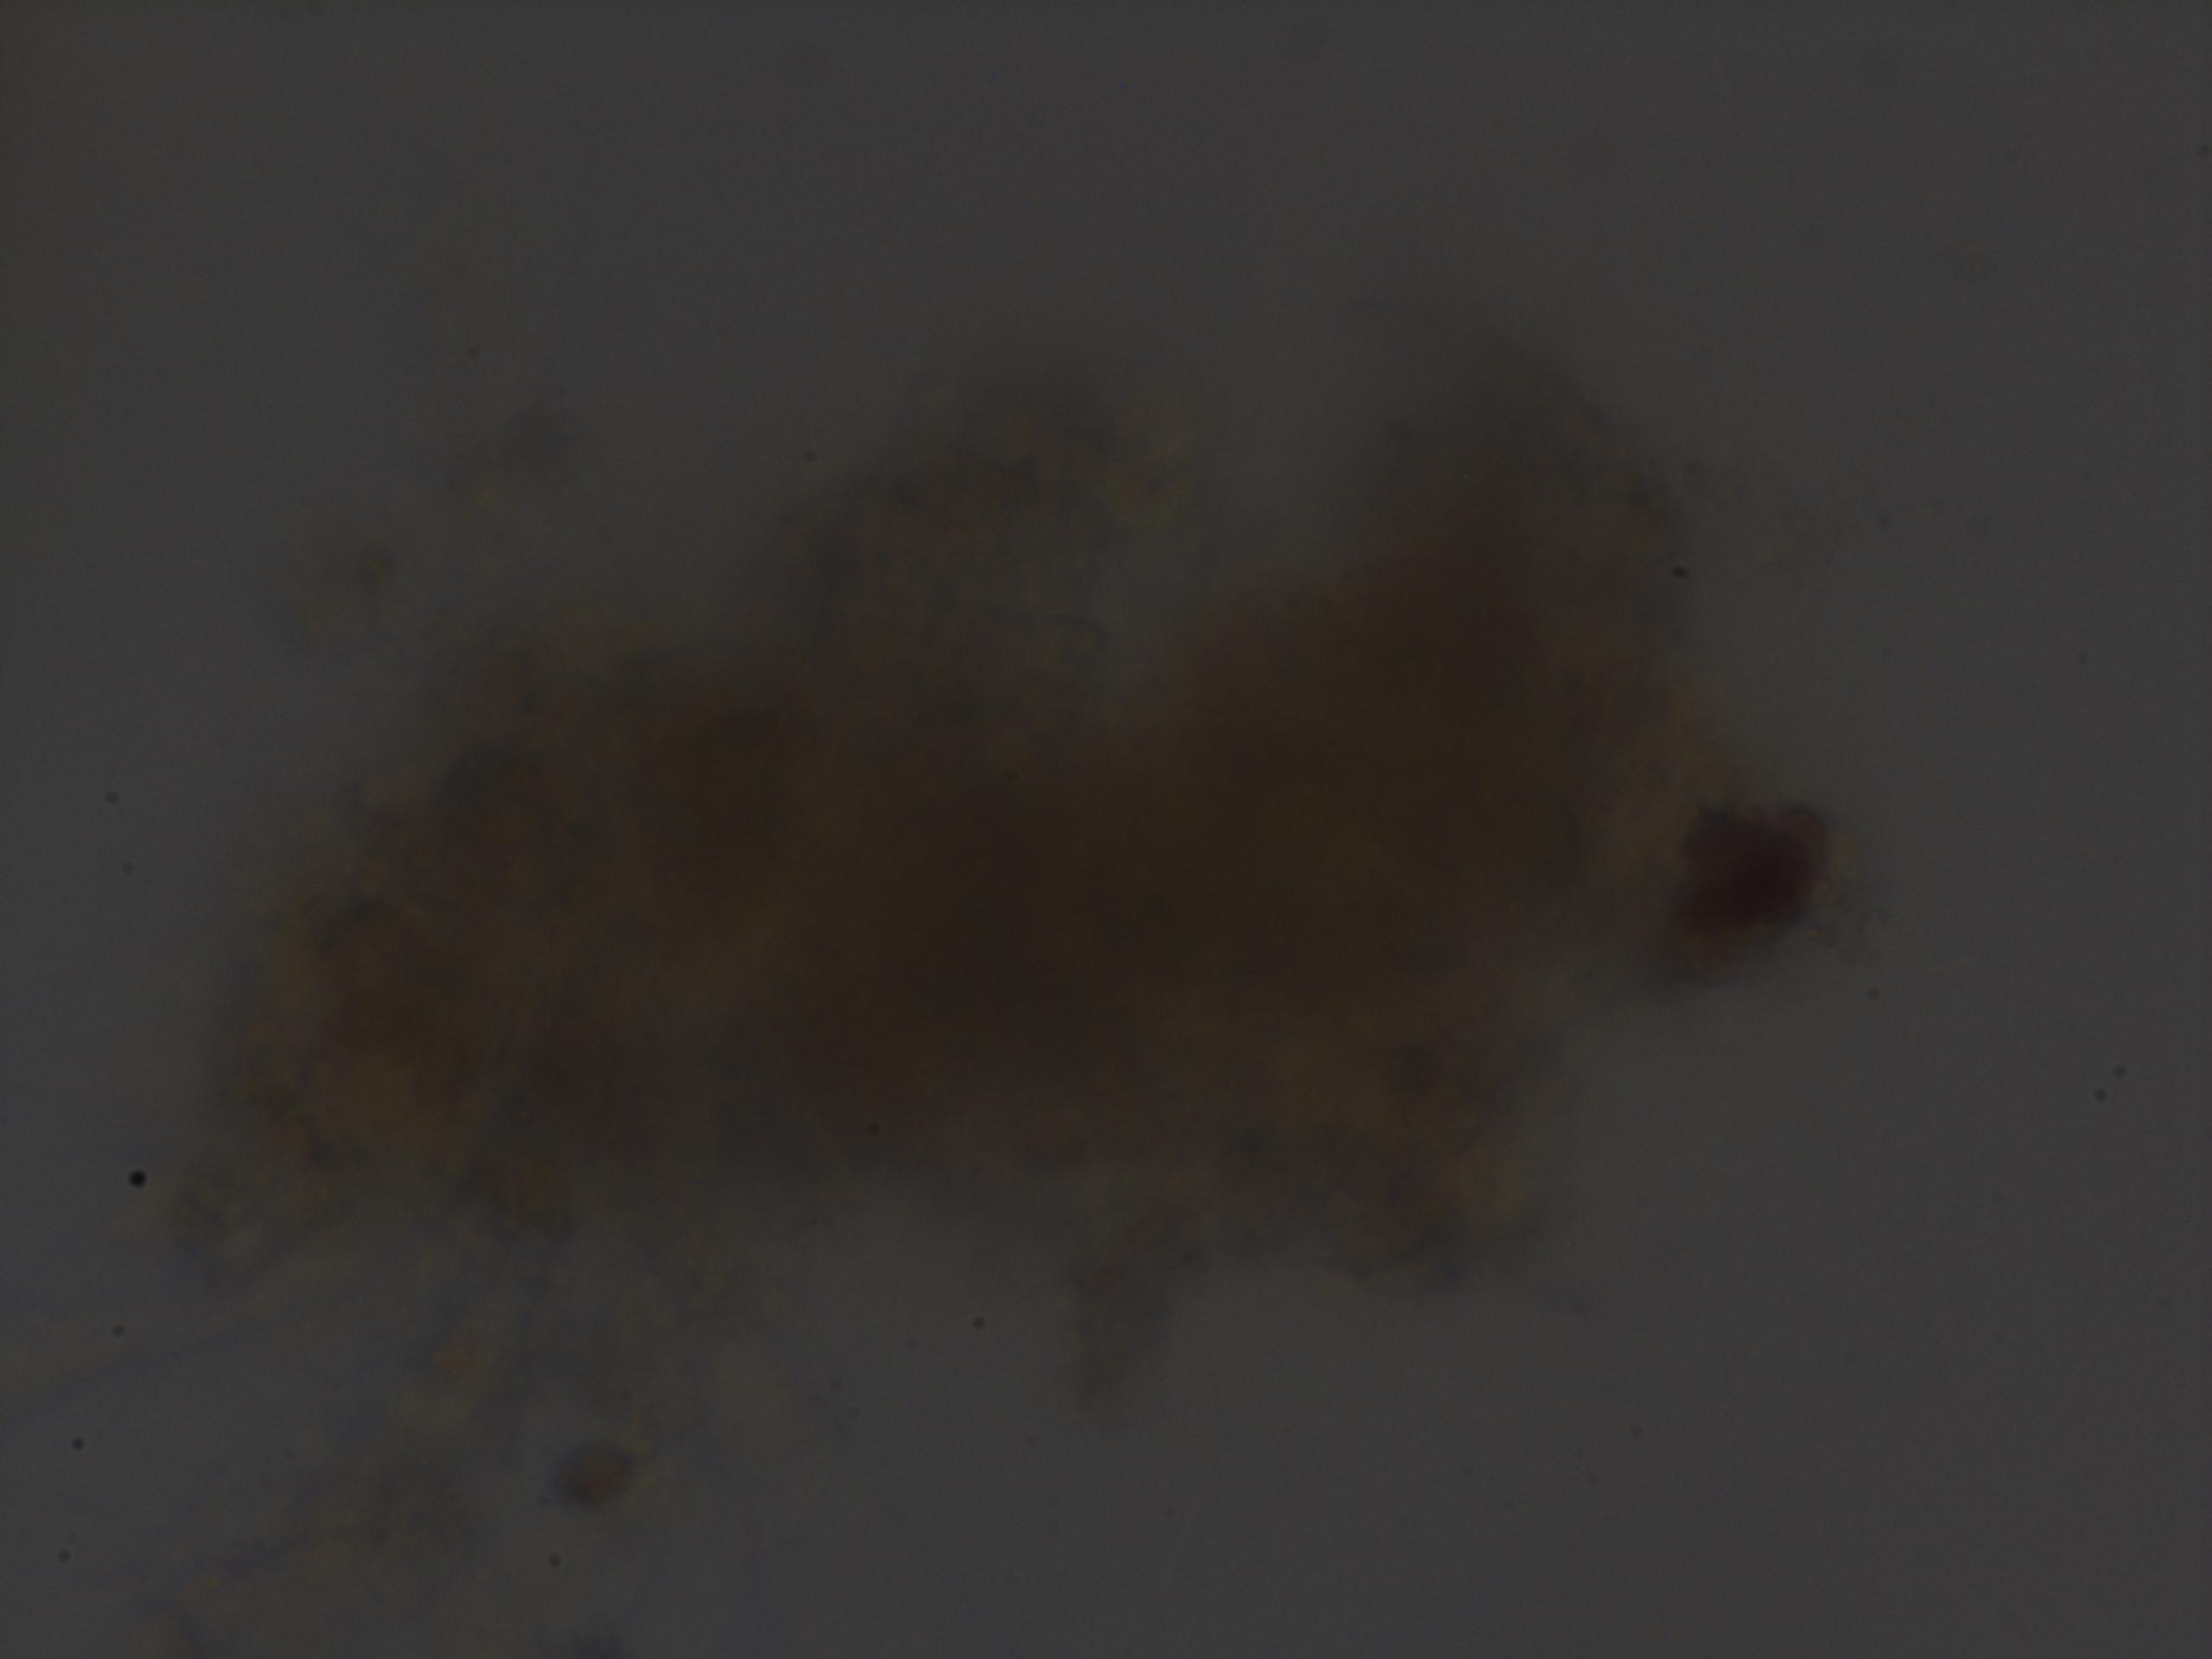spherical_floc: (242, 394, 1754, 1279)
